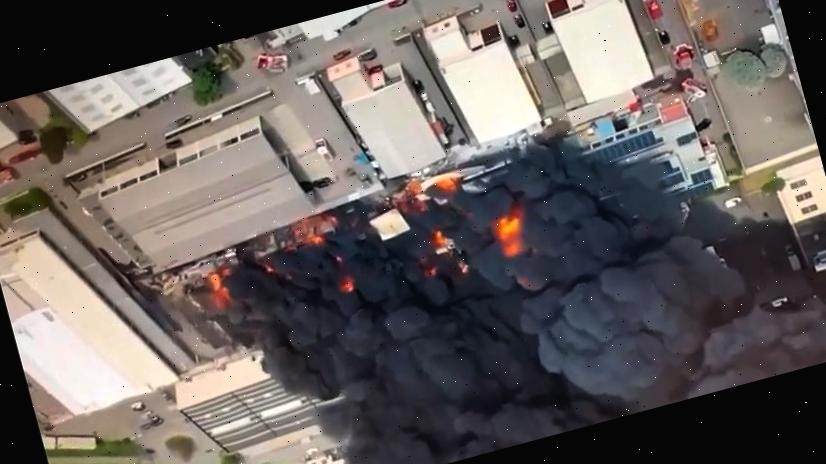fire: (191, 161, 529, 342)
smoke: (250, 210, 826, 464), (515, 109, 717, 275)
